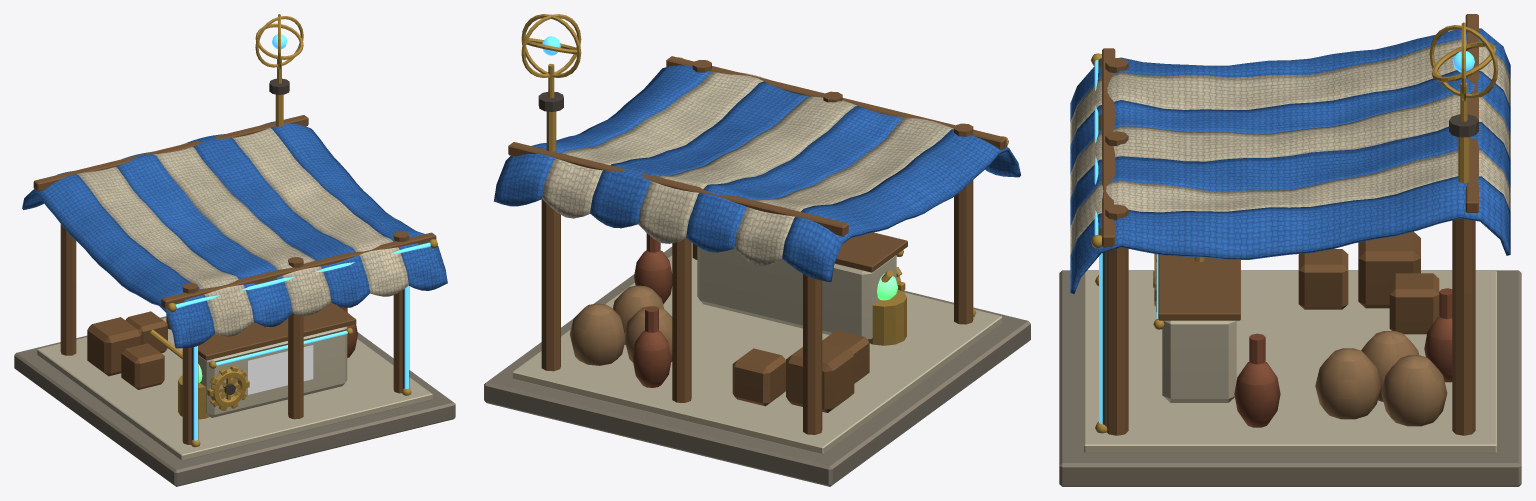
File: marche.glb
The picture shows the model from 3 angles, left to right: view 1: azimuth 30°, elevation 25°; view 2: azimuth 150°, elevation 25°; view 3: azimuth 270°, elevation 25°; orthographic projection. The views are drawn at different scales.
Parts seen in each view (by area): view 1: marche, tag_0; view 2: marche; view 3: marche.
Part boxes in pixels (x1,y1,x2,y2): marche: (14, 14, 455, 486); tag_0: (248, 345, 313, 394); marche: (484, 14, 1030, 486); marche: (1059, 14, 1521, 486).
Bounding box in the file's own units: 2.8 × 2.93 × 2.8.
Materials: 13 (2 with a texture image).
